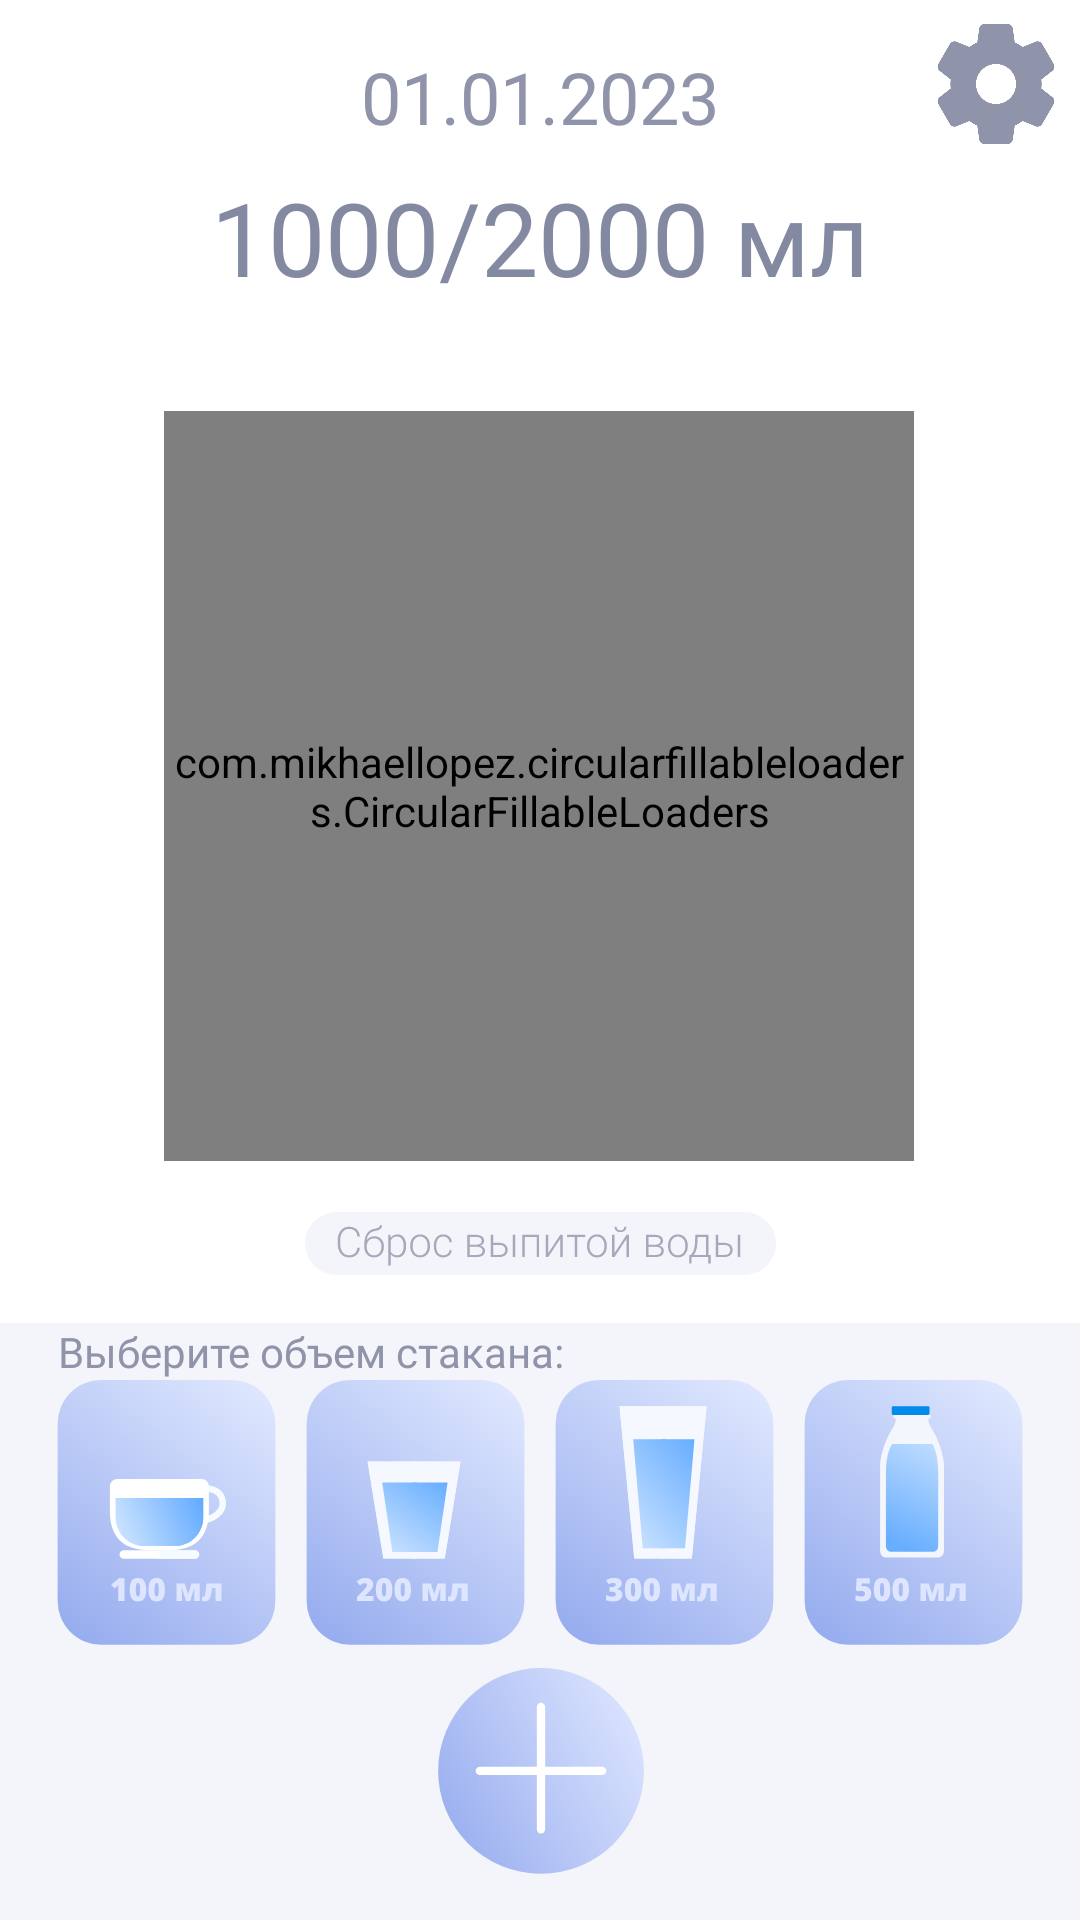

Icon bounding boxes for this 1080×1920 phone screenshot, format (x1, y1, x2, y2):
settings: (937, 24, 1055, 144)
